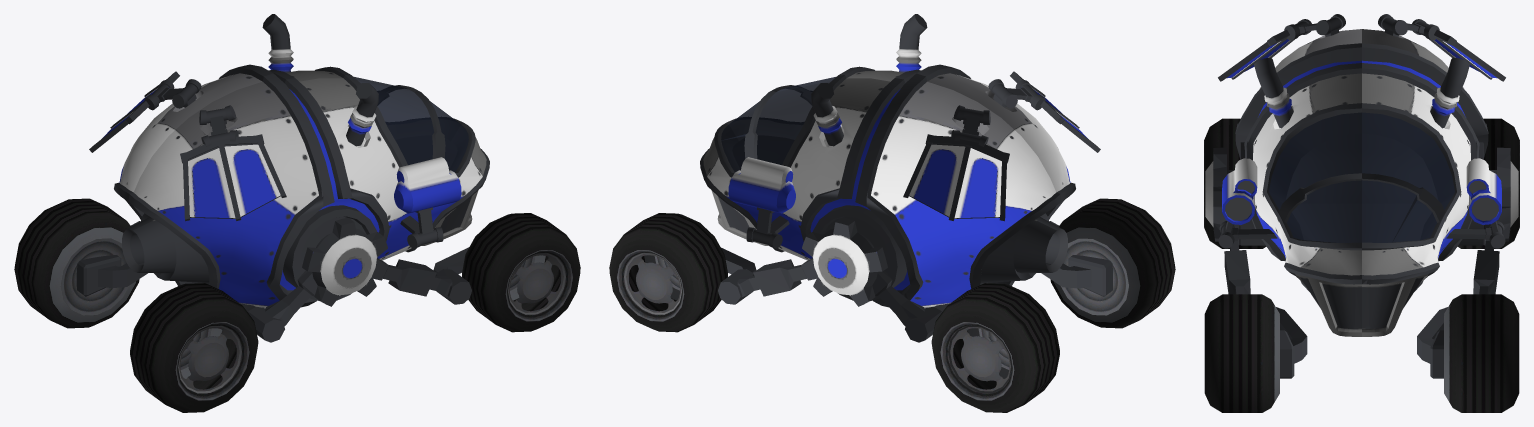
Rendered from scarab.obj.
3 renders of one model, left to right at view 1: azimuth 30°, elevation 25°; view 2: azimuth 150°, elevation 25°; view 3: azimuth 270°, elevation 25°, orthographic. The views are drawn at different scales.
Size of the model in its own units: 1.9 by 1.13 by 1.16.
3 materials, 2 textured.
